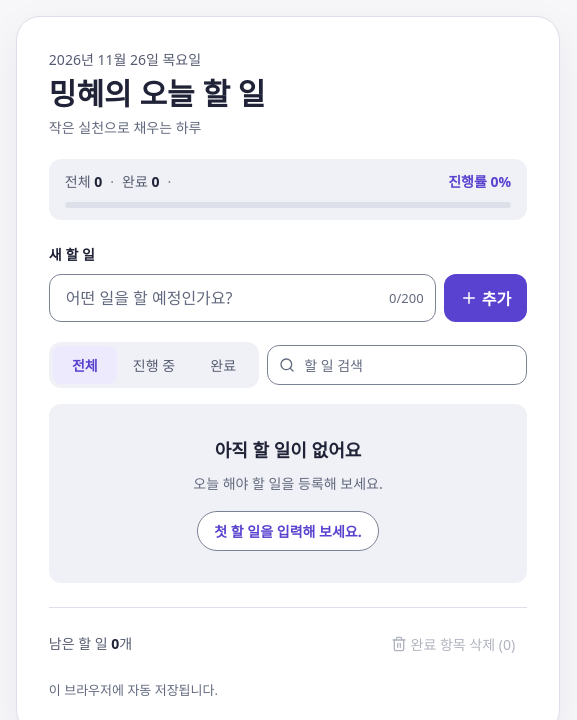
Test case: App Component Integration › 새 할 일을 추가하면 목록에 나타나고 입력창이 비워지며 포커스가 유지된다
Step 1. Type "비타민 챙겨먹기" into the field with placeholder "어떤 일을 할 예정인가요?" → (242, 298), box x1=49 y1=274 x2=436 y2=322
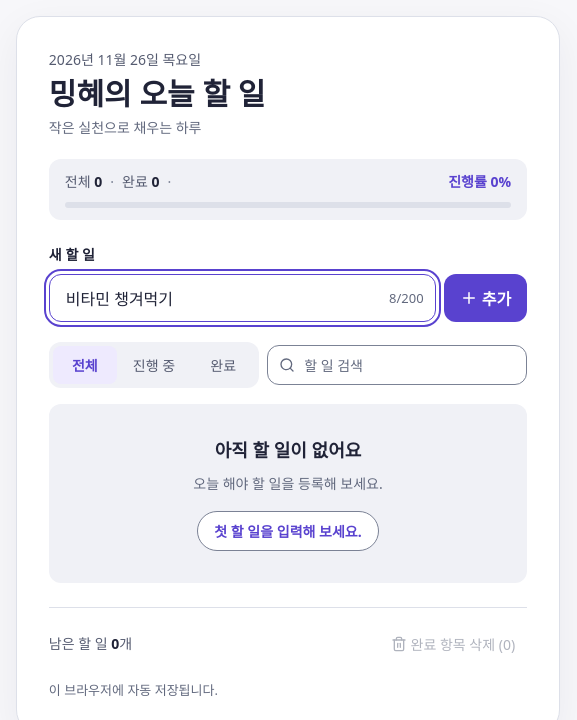
Step 2. Click the button with aria-label "할 일 추가" → (485, 298), box x1=444 y1=274 x2=527 y2=322
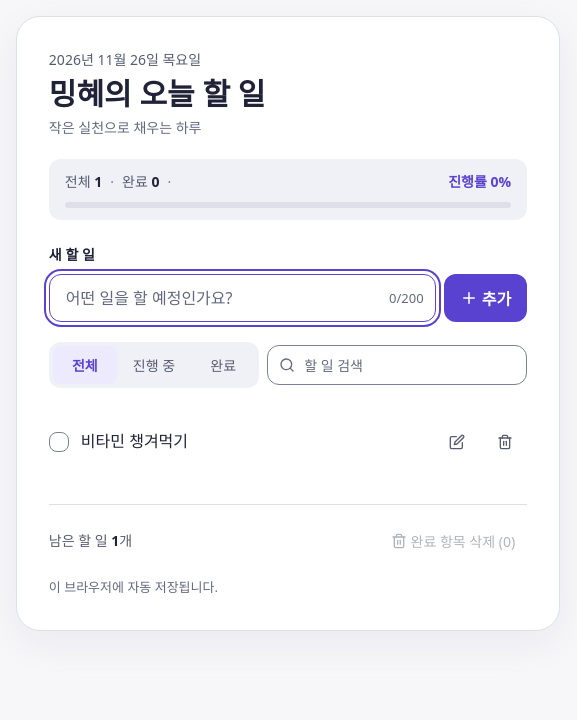
Expected: the text "비타민 챙겨먹기" is shown, x1=81 y1=429 x2=188 y2=455
Expected: the field with placeholder "어떤 일을 할 예정인가요?" is empty, x1=49 y1=274 x2=436 y2=322
